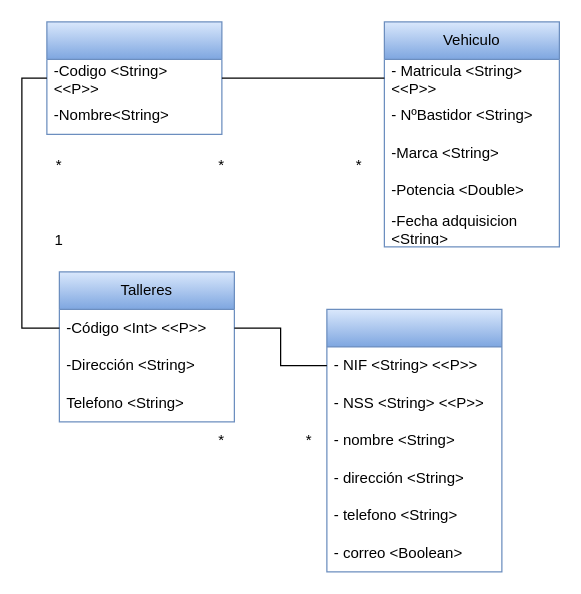
This 581x594 diagram has some shape labels left out. The shapes that lost their labels are listed below. From the top down, each one's box as (x1, y1, x2, y2) in pixels, then its label:
(46, 21, 222, 134): Ciudad
(326, 308, 502, 572): empleados
